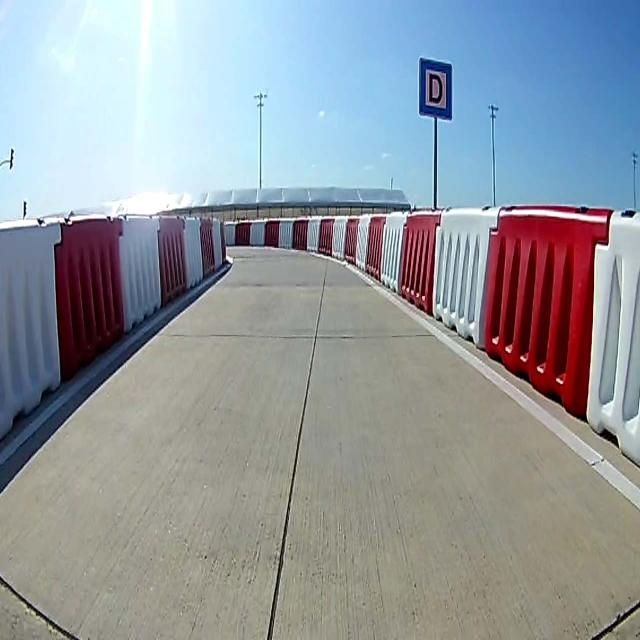durak: (420, 58, 452, 122)
